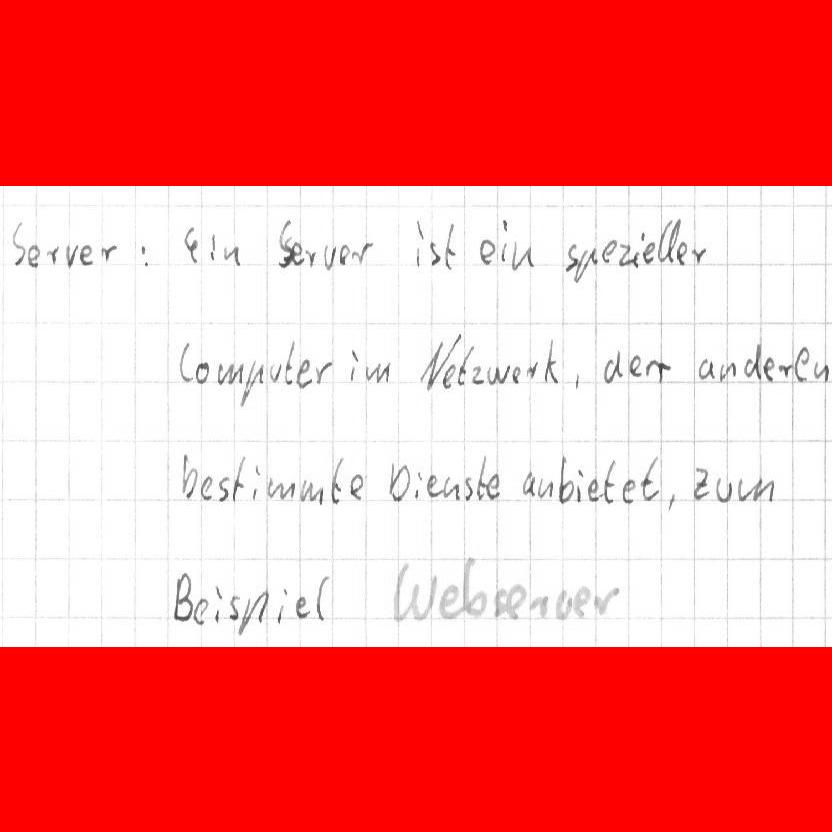Char: (417, 335, 451, 391), (237, 589, 269, 635), (239, 358, 263, 408), (386, 460, 413, 504), (736, 474, 775, 503), (173, 571, 194, 621), (640, 454, 661, 502), (573, 246, 598, 282), (601, 348, 625, 385), (181, 451, 199, 500), (265, 474, 296, 502), (543, 336, 561, 384), (558, 454, 575, 504), (276, 218, 292, 270), (456, 344, 475, 386), (644, 357, 673, 384), (742, 341, 762, 380), (231, 454, 247, 502), (182, 225, 201, 265), (330, 456, 345, 506), (216, 361, 244, 387), (298, 478, 324, 506), (11, 219, 26, 267), (315, 575, 330, 623), (511, 239, 533, 271), (793, 343, 810, 384), (177, 340, 193, 383), (692, 464, 710, 502), (603, 458, 617, 506), (656, 218, 670, 265), (667, 217, 681, 264), (443, 222, 456, 271), (283, 339, 296, 385), (365, 361, 391, 384), (414, 218, 426, 267), (295, 357, 313, 389), (475, 454, 487, 502), (485, 362, 510, 385), (275, 586, 289, 625), (441, 473, 461, 500), (715, 475, 733, 505), (477, 238, 496, 266), (351, 241, 373, 265), (697, 354, 716, 381), (810, 358, 829, 385), (632, 231, 645, 269), (314, 360, 333, 386), (424, 471, 442, 498), (717, 360, 738, 383), (221, 243, 241, 267), (564, 241, 580, 271), (620, 476, 636, 506), (499, 217, 509, 264), (192, 596, 208, 625), (250, 461, 261, 502), (484, 472, 500, 500), (760, 355, 776, 382), (199, 474, 215, 501), (349, 473, 365, 500), (216, 474, 231, 502), (213, 582, 223, 624), (536, 476, 554, 499), (601, 238, 616, 265), (98, 243, 117, 264), (290, 238, 304, 266), (322, 243, 336, 271), (26, 243, 41, 269), (64, 243, 79, 269), (627, 353, 642, 379), (521, 470, 536, 496), (349, 348, 360, 383), (195, 361, 211, 385), (294, 595, 310, 619), (442, 363, 456, 390), (428, 238, 441, 267), (78, 243, 94, 266), (228, 592, 240, 622), (675, 239, 688, 266), (586, 477, 600, 502), (524, 357, 539, 380), (690, 246, 707, 266), (337, 242, 351, 266), (642, 240, 656, 264), (618, 241, 631, 266), (208, 232, 218, 264), (414, 469, 424, 501), (470, 363, 485, 384), (575, 467, 584, 502), (45, 243, 59, 265), (268, 362, 282, 384), (303, 248, 318, 267), (778, 362, 792, 380), (666, 492, 678, 513), (140, 243, 150, 267), (511, 363, 522, 384), (464, 475, 473, 500), (573, 370, 582, 390)
